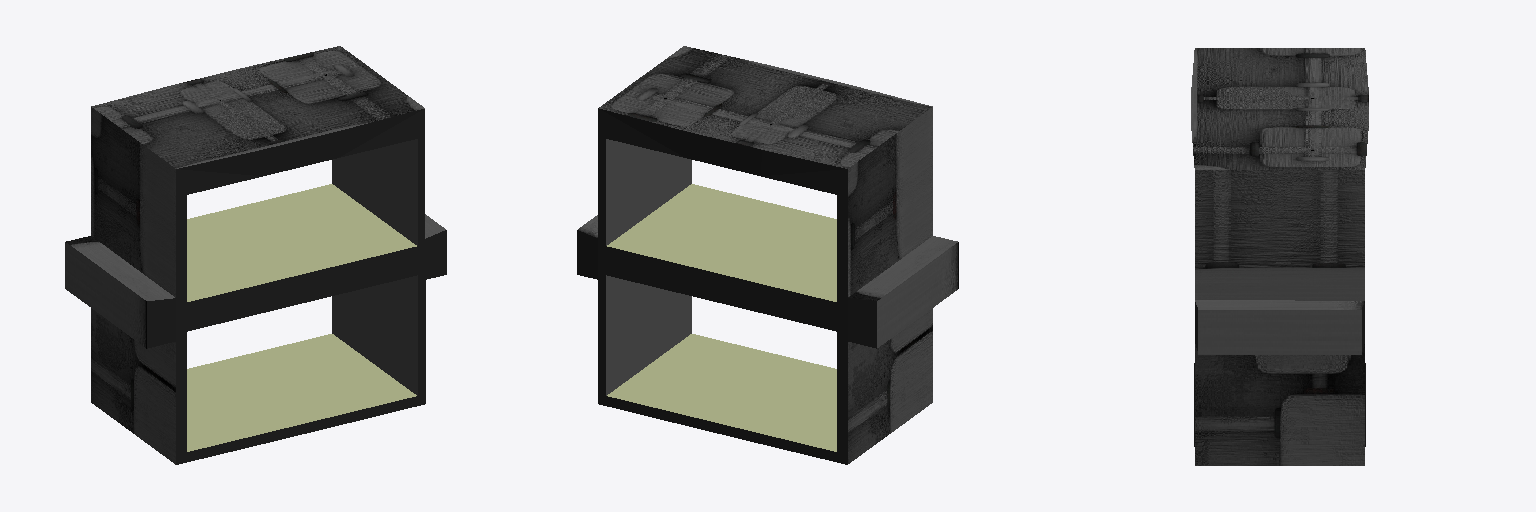
The picture shows the model from 3 angles: view 1: azimuth 30°, elevation 25°; view 2: azimuth 150°, elevation 25°; view 3: azimuth 270°, elevation 25°; orthographic projection.
Visible parts, largest first — view 1: width_Corridor_Connector; view 2: width_Corridor_Connector; view 3: width_Corridor_Connector.
Boxes of the visible parts, x1,y1,x2,y2 form: width_Corridor_Connector: [65, 46, 446, 464]; width_Corridor_Connector: [577, 46, 958, 464]; width_Corridor_Connector: [1191, 48, 1368, 465].
Size of the model in its own units: 1.21 by 1.14 by 0.6178.
4 materials, 1 textured.